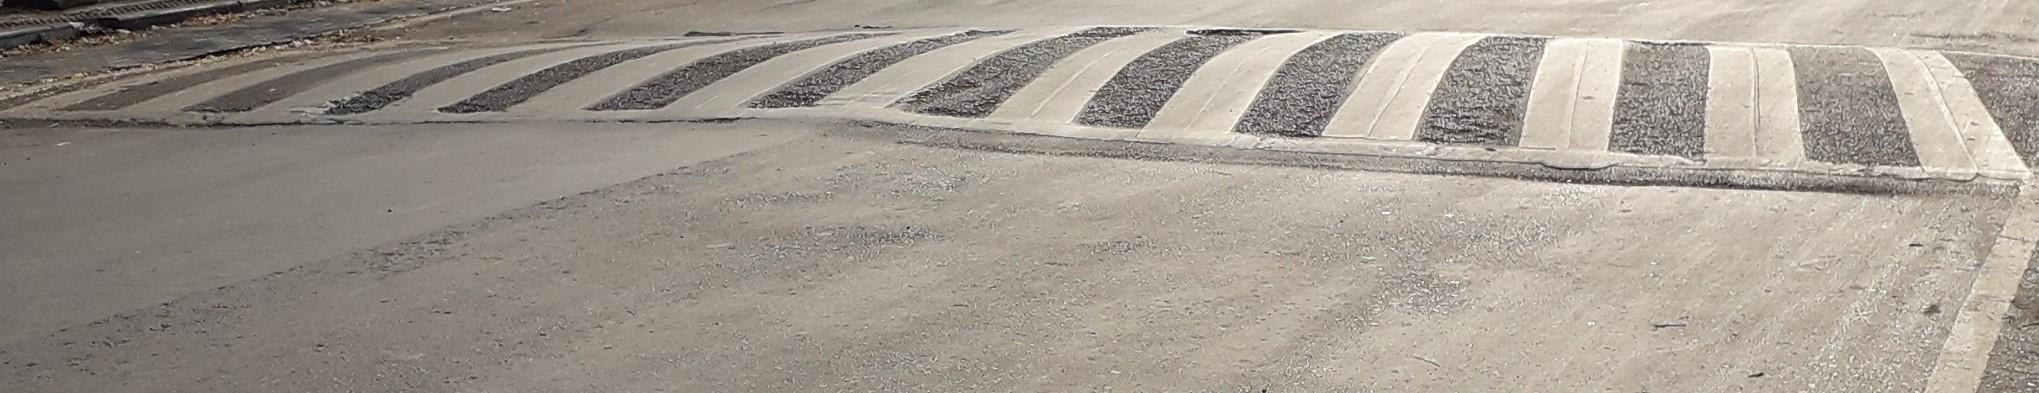speed-bump: (10, 30, 2038, 196)
